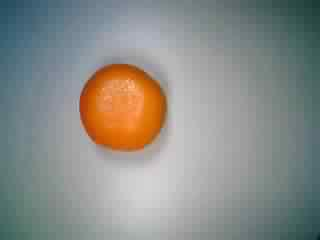orange: (76, 60, 171, 154)
